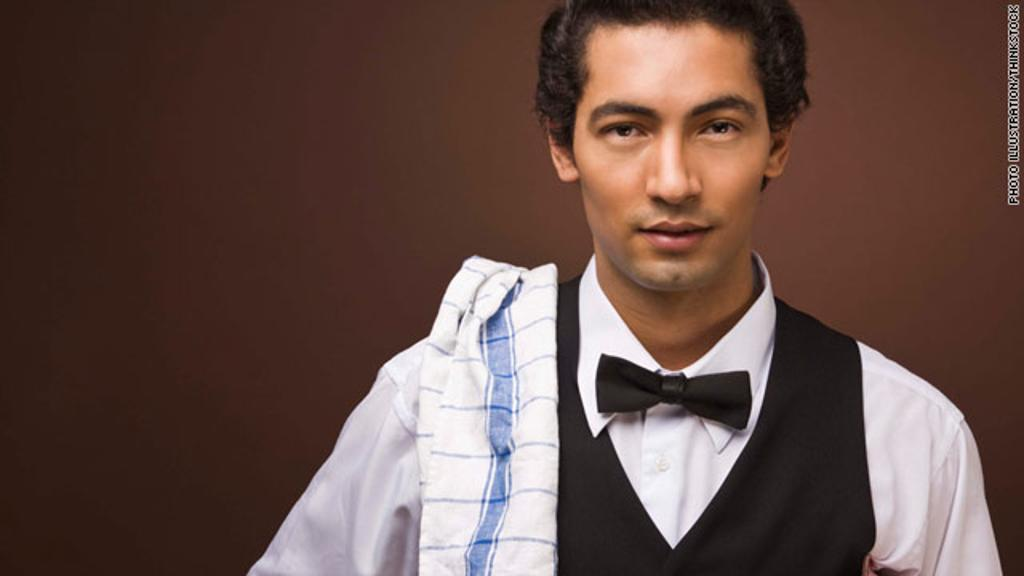face: (575, 25, 775, 285)
